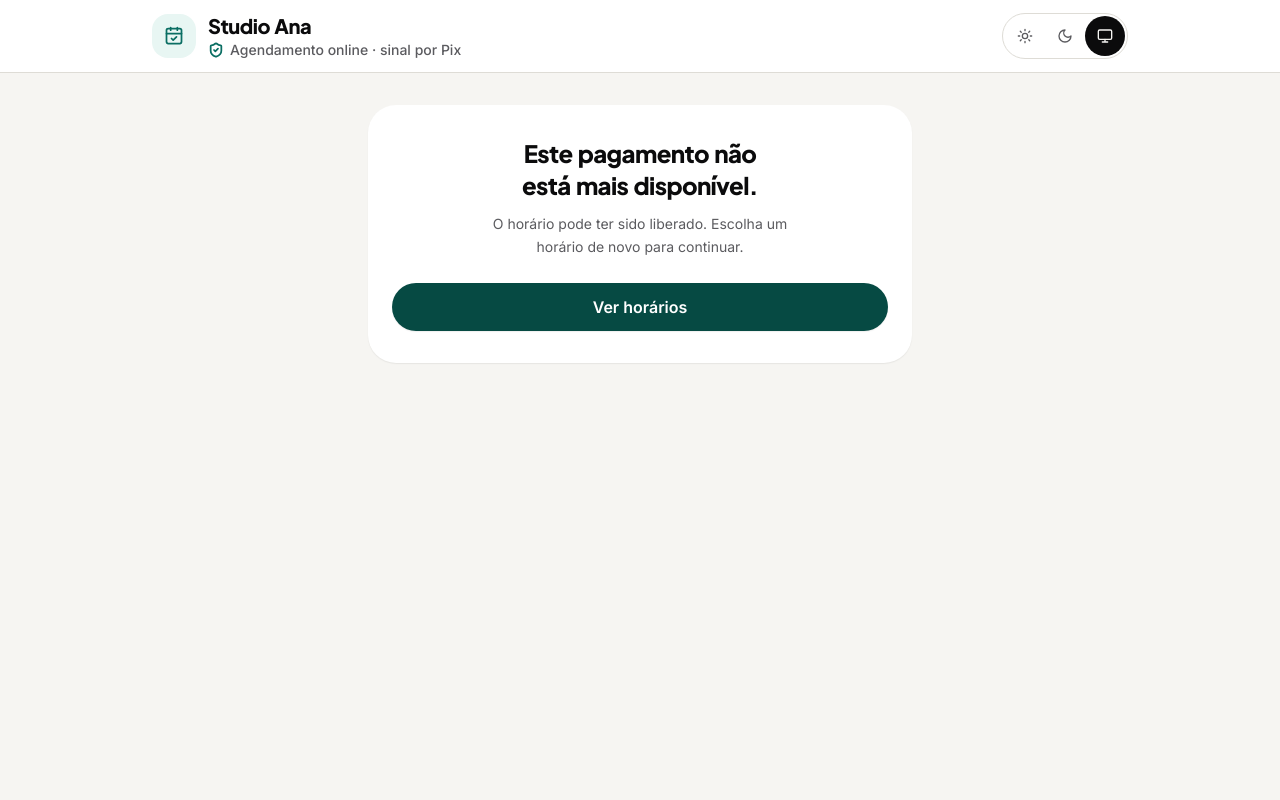
status 401 encerra o pagamento e volta aos horários
Expected: the heading "Este pagamento não está mais disponível." is shown, [522,138,758,200]
Expected: the text "O horário pode ter sido liberado. Escolha um horário de novo para continuar." is shown, [481,213,799,258]
Click the button "Ver horários": (640, 306) [392,282,888,330]
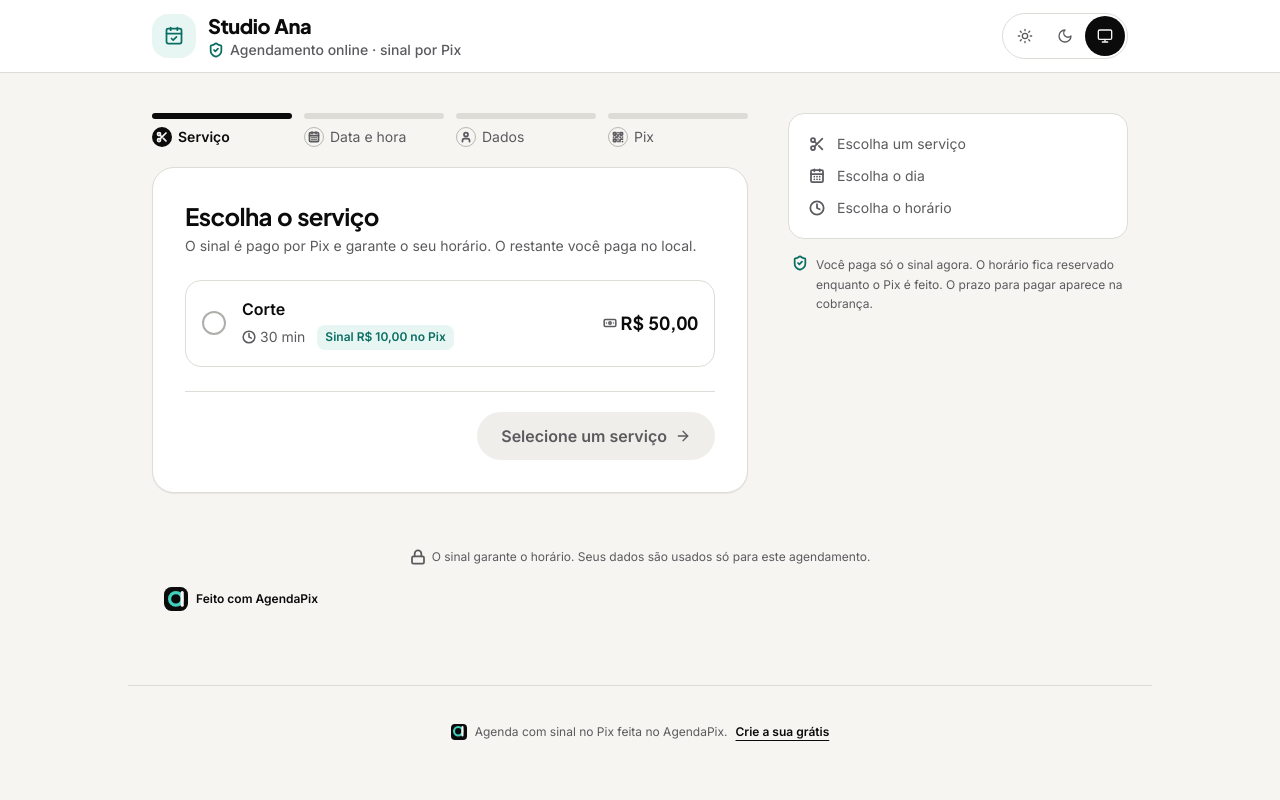
Expected: the element named "Serviços" is shown, [185,280,715,366]
Expected: the heading "Este pagamento não está mais disponível." is gone
